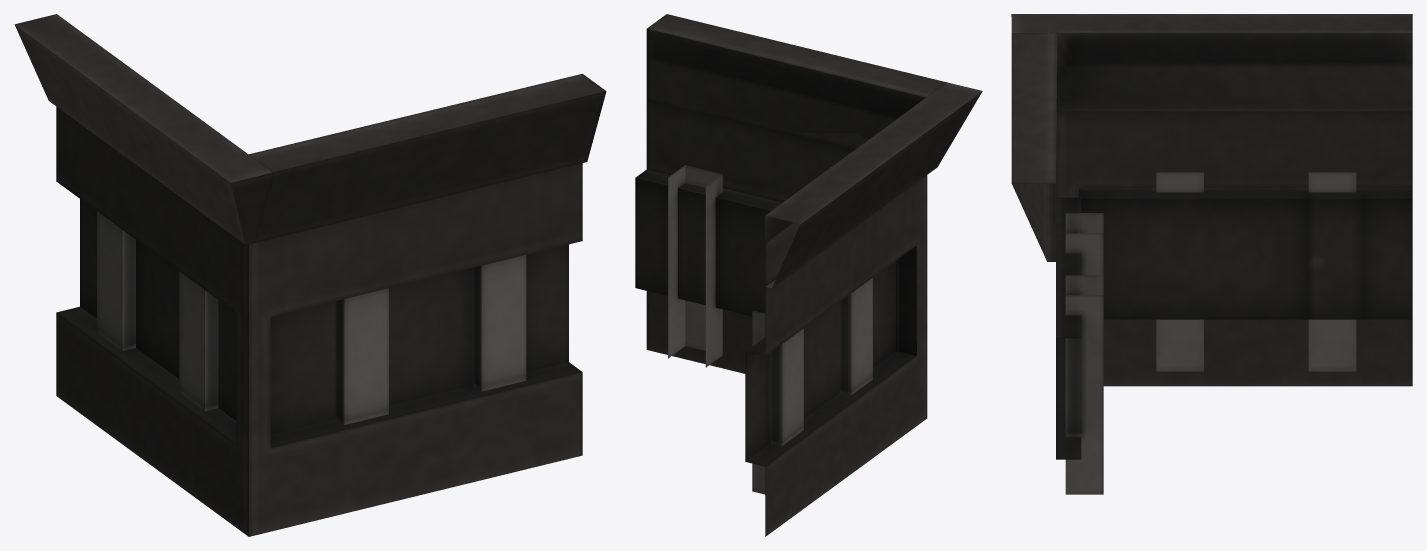
The model's file is B11_RoofCorner.FBX.
The picture shows the model from 3 angles, left to right: view 1: azimuth 30°, elevation 25°; view 2: azimuth 150°, elevation 25°; view 3: azimuth 270°, elevation 25°; orthographic projection. The views are drawn at different scales.
Parts seen in each view (by area): view 1: B11_RoofCorner; view 2: B11_RoofCorner; view 3: B11_RoofCorner.
Part boxes in pixels (box(x1,y1,x2,y2)): B11_RoofCorner: box(14, 14, 606, 536); B11_RoofCorner: box(635, 14, 982, 536); B11_RoofCorner: box(1011, 14, 1412, 494).
Size of the model in its own units: 4.5 by 4.37 by 4.5.
